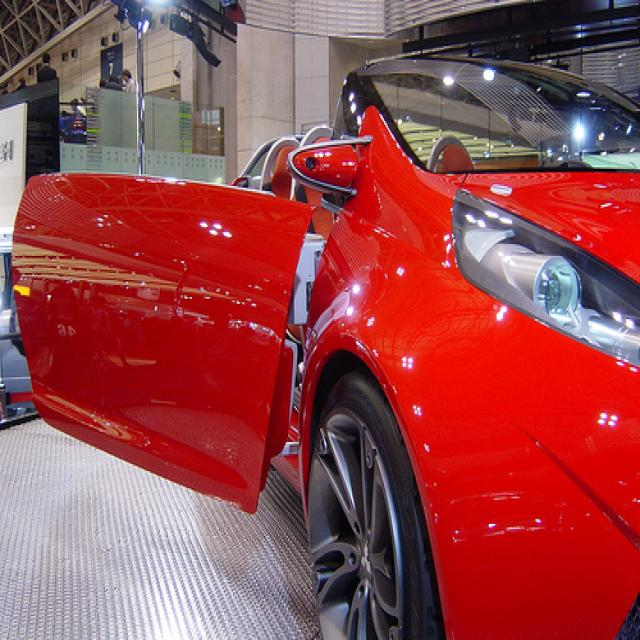car: (11, 54, 640, 639)
